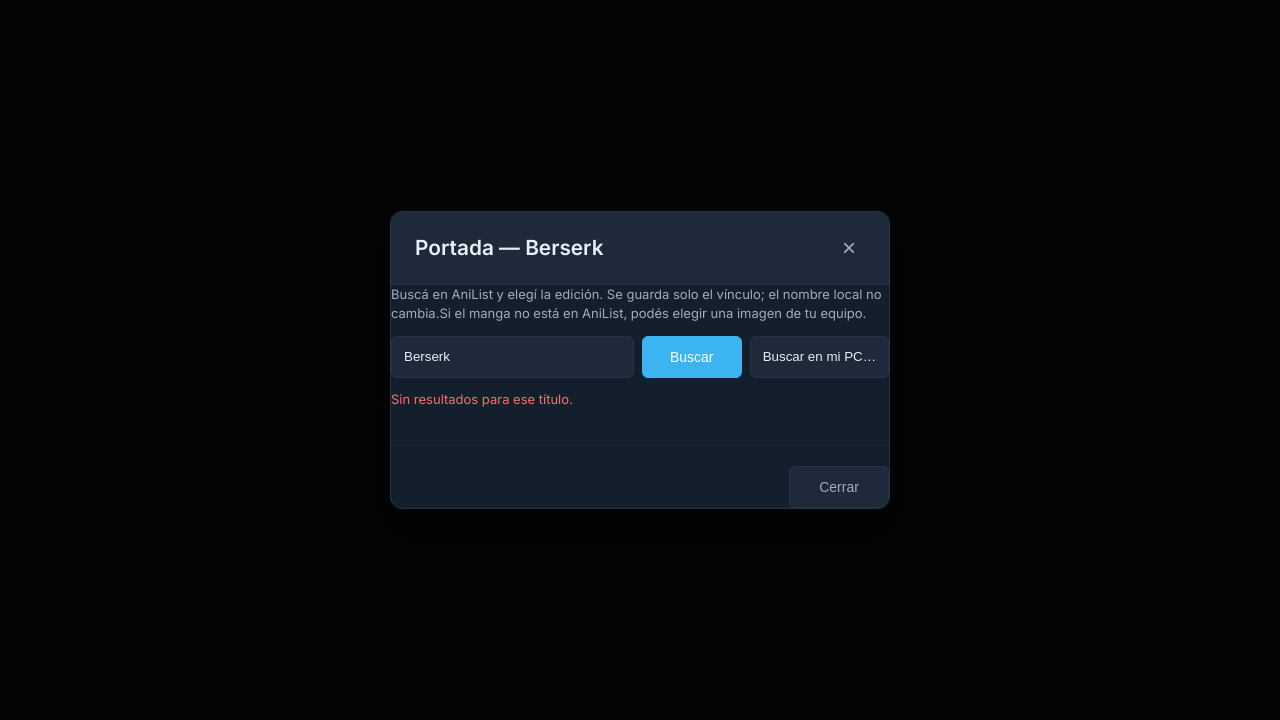
Test: LinkCoverModal › muestra un error si falla la imagen local
Click the button "Buscar en mi PC…" at (819, 357), box [750,336,889,378]
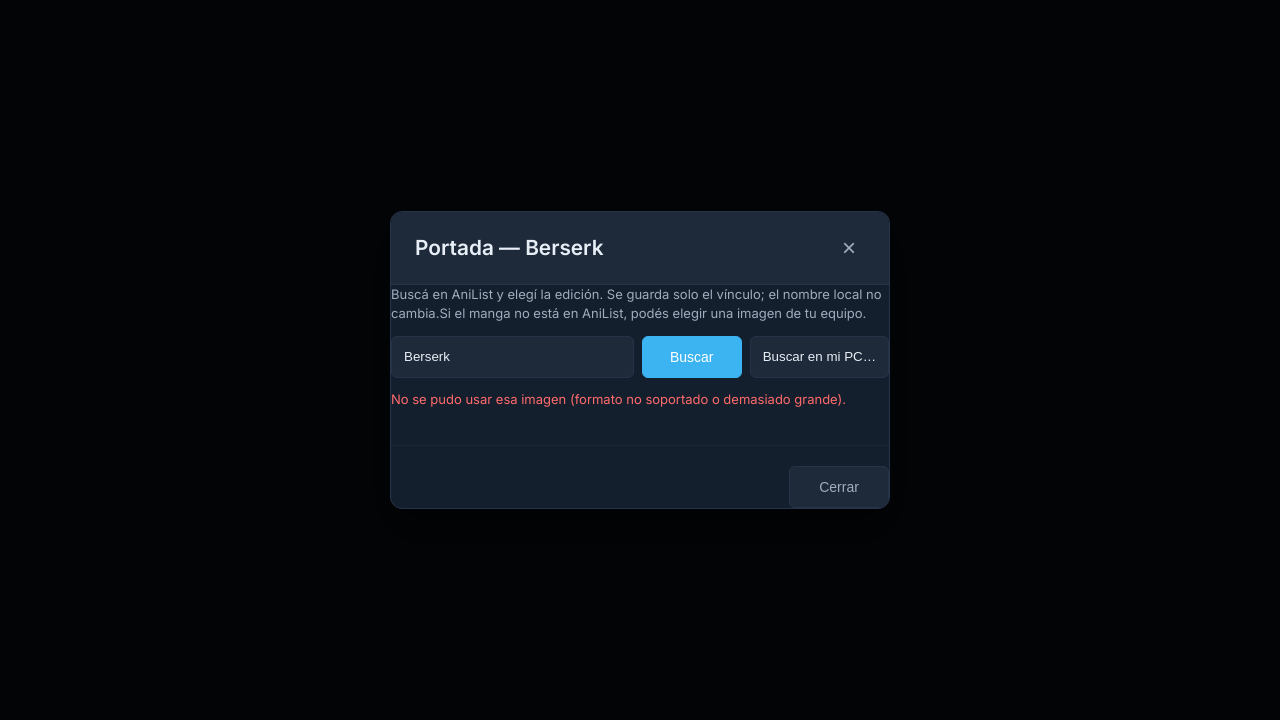
Now the text "No se pudo usar esa imagen (formato no soportado o demasiado grande)." is shown, box [391,390,889,409]
